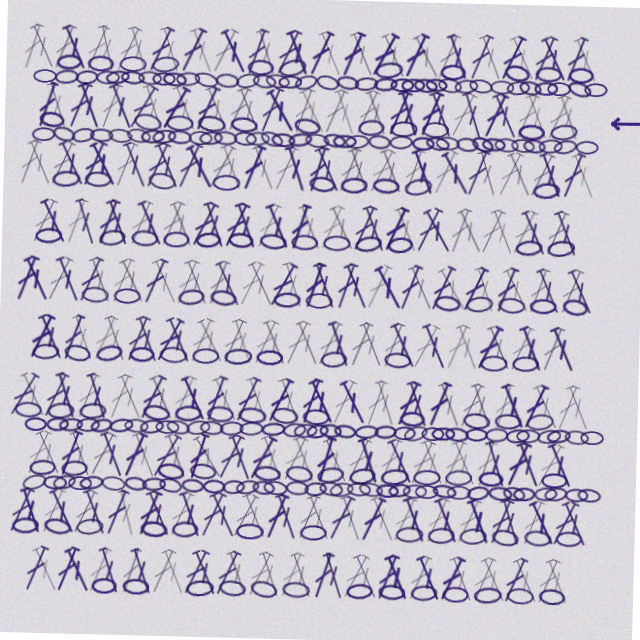chain: (271, 57, 302, 80), (128, 116, 158, 137), (400, 174, 430, 195), (96, 348, 125, 369), (256, 580, 285, 601), (497, 58, 525, 79), (288, 117, 317, 137), (144, 175, 173, 195), (96, 233, 125, 253), (352, 233, 381, 253), (64, 349, 93, 369), (144, 407, 173, 427), (160, 465, 189, 485), (320, 465, 349, 485), (352, 465, 381, 485), (48, 523, 77, 543), (496, 523, 525, 543), (544, 233, 574, 252), (561, 291, 589, 311), (368, 59, 397, 78), (192, 117, 221, 136), (528, 407, 557, 426), (254, 130, 280, 151), (465, 130, 491, 151), (560, 73, 587, 93), (405, 421, 432, 441), (25, 479, 52, 499), (145, 59, 173, 78), (33, 117, 61, 136), (545, 117, 573, 136), (305, 175, 333, 194), (177, 291, 205, 310), (209, 291, 237, 310), (433, 291, 461, 310), (465, 291, 493, 310), (273, 407, 301, 426), (193, 465, 221, 484), (289, 465, 317, 484), (81, 523, 109, 542), (225, 581, 253, 600), (48, 176, 77, 194), (240, 408, 269, 426), (384, 466, 413, 484), (192, 582, 221, 600), (480, 582, 509, 600), (187, 73, 213, 93), (287, 73, 313, 93), (225, 118, 253, 136), (529, 176, 557, 194), (257, 234, 285, 252), (513, 234, 541, 252), (497, 292, 525, 310), (321, 350, 349, 368), (49, 408, 77, 426), (465, 408, 493, 426), (257, 466, 285, 484), (145, 524, 173, 542), (529, 524, 557, 542), (513, 582, 541, 600), (545, 582, 573, 600), (229, 73, 255, 92), (160, 350, 189, 367), (193, 234, 220, 252), (385, 234, 412, 252), (225, 350, 253, 367), (81, 408, 109, 425), (401, 524, 429, 541), (289, 582, 317, 599), (417, 582, 445, 599), (309, 73, 334, 92), (47, 131, 72, 150), (56, 479, 81, 498), (420, 132, 446, 150), (548, 132, 574, 150), (168, 422, 194, 440), (539, 422, 565, 440), (239, 480, 265, 498), (333, 480, 359, 498), (353, 118, 380, 135), (337, 176, 364, 193), (369, 176, 396, 193), (33, 234, 60, 251), (129, 234, 156, 251), (81, 292, 108, 309), (33, 350, 60, 367), (385, 350, 412, 367), (177, 408, 204, 425), (209, 408, 236, 425), (33, 466, 60, 483), (65, 466, 92, 483), (449, 466, 476, 483), (17, 524, 44, 541), (177, 524, 204, 541), (433, 524, 460, 541), (465, 524, 492, 541), (353, 582, 380, 599), (385, 582, 412, 599), (512, 74, 537, 92), (66, 132, 91, 150), (92, 422, 117, 440), (308, 422, 333, 440), (162, 480, 187, 498), (470, 480, 495, 498), (506, 480, 531, 498), (161, 119, 189, 135), (385, 119, 413, 135), (209, 177, 237, 193), (321, 235, 349, 251), (481, 351, 509, 367), (417, 467, 445, 483), (241, 525, 269, 541), (50, 60, 76, 77), (431, 74, 457, 91), (462, 74, 488, 91), (121, 132, 147, 149), (226, 234, 252, 251), (111, 422, 137, 439), (188, 422, 214, 439), (362, 480, 388, 497), (81, 61, 108, 77), (113, 61, 140, 77), (241, 61, 268, 77), (529, 61, 556, 77), (417, 119, 444, 135), (513, 119, 540, 135), (81, 177, 108, 193), (161, 235, 188, 251), (289, 235, 316, 251), (113, 293, 140, 309), (273, 293, 300, 309), (305, 293, 332, 309), (529, 293, 556, 309), (193, 351, 220, 367), (257, 351, 284, 367), (513, 351, 540, 367), (17, 409, 44, 425), (305, 409, 332, 425), (497, 409, 524, 425), (545, 467, 572, 483), (305, 525, 332, 541), (561, 525, 588, 541), (129, 583, 156, 599), (449, 583, 476, 599), (99, 74, 124, 91), (259, 74, 284, 91), (147, 132, 172, 149), (283, 132, 308, 149), (142, 422, 167, 439), (285, 422, 310, 439), (549, 422, 574, 439), (83, 480, 108, 497), (105, 480, 130, 497), (323, 480, 348, 497), (436, 480, 461, 497), (434, 61, 460, 77), (562, 61, 588, 77), (130, 351, 156, 367), (402, 409, 428, 425), (482, 467, 508, 483), (98, 583, 124, 599), (330, 74, 354, 91), (318, 132, 342, 149), (128, 480, 152, 497), (392, 480, 416, 497), (548, 480, 572, 497), (48, 75, 73, 91), (156, 75, 181, 91), (209, 75, 234, 91), (246, 75, 271, 91), (348, 75, 373, 91), (367, 75, 392, 91), (407, 75, 432, 91), (448, 75, 473, 91), (500, 75, 525, 91), (103, 133, 128, 149), (194, 133, 219, 149), (266, 133, 291, 149), (300, 133, 325, 149), (340, 133, 365, 149), (506, 133, 531, 149), (61, 423, 86, 439), (296, 423, 321, 439), (357, 423, 382, 439), (447, 423, 472, 439), (508, 423, 533, 439), (567, 423, 592, 439), (267, 481, 292, 497), (492, 481, 517, 497), (581, 481, 606, 497), (69, 75, 93, 91), (451, 133, 475, 149), (518, 133, 542, 149), (336, 423, 360, 439), (185, 481, 209, 497), (226, 481, 250, 497), (256, 481, 280, 497), (308, 481, 332, 497), (114, 75, 139, 90), (202, 423, 227, 438), (222, 423, 247, 438), (132, 75, 156, 90), (170, 75, 194, 90), (136, 133, 160, 148), (163, 133, 187, 148), (209, 133, 233, 148), (241, 133, 265, 148), (363, 133, 387, 148), (431, 133, 455, 148), (477, 133, 501, 148), (490, 133, 514, 148), (534, 133, 558, 148), (79, 423, 103, 438), (127, 423, 151, 438), (242, 423, 266, 438), (264, 423, 288, 438), (146, 481, 170, 496), (351, 481, 375, 496), (538, 481, 562, 496), (419, 75, 442, 90), (229, 133, 252, 148), (385, 133, 408, 148), (49, 423, 72, 438), (322, 423, 345, 438), (377, 423, 400, 438), (488, 423, 511, 438), (290, 481, 313, 496), (27, 76, 51, 90), (90, 76, 114, 90), (146, 76, 170, 90), (272, 76, 296, 90), (384, 76, 408, 90), (395, 76, 419, 90), (484, 76, 508, 90), (528, 76, 552, 90), (541, 76, 565, 90), (578, 76, 602, 90), (27, 134, 51, 148), (85, 134, 109, 148), (184, 134, 208, 148), (328, 134, 352, 148), (158, 424, 182, 438), (434, 424, 458, 438), (519, 424, 543, 438), (583, 424, 607, 438), (47, 482, 71, 496), (72, 482, 96, 496), (407, 482, 431, 496), (419, 482, 443, 496), (451, 482, 475, 496), (569, 482, 593, 496), (407, 134, 430, 148), (571, 134, 594, 148), (27, 424, 50, 438), (396, 424, 419, 438), (424, 424, 447, 438), (468, 424, 491, 438), (207, 482, 230, 496), (380, 482, 403, 496), (517, 482, 540, 496)
double: (433, 262, 471, 310), (119, 88, 156, 136), (257, 88, 294, 136), (417, 204, 454, 252), (7, 378, 44, 426), (151, 436, 188, 484), (360, 29, 396, 78), (200, 145, 236, 194), (193, 436, 230, 483), (402, 30, 438, 78), (152, 88, 188, 136), (178, 146, 214, 194), (434, 146, 470, 194), (264, 262, 300, 310), (370, 262, 406, 310), (152, 320, 188, 368), (408, 320, 444, 368), (210, 29, 245, 78), (290, 87, 325, 136), (440, 87, 475, 136), (82, 145, 117, 194), (360, 145, 395, 194), (34, 203, 69, 252), (184, 203, 219, 252), (114, 261, 149, 310), (498, 261, 533, 310), (194, 319, 229, 368), (472, 319, 507, 368), (18, 377, 53, 426), (210, 377, 245, 426), (338, 377, 373, 426), (88, 435, 123, 484), (248, 435, 283, 484), (50, 493, 85, 542), (530, 493, 565, 542), (552, 493, 587, 542), (344, 551, 379, 600), (536, 436, 571, 484), (19, 29, 53, 78), (137, 29, 171, 78), (169, 29, 203, 78), (201, 29, 235, 78), (489, 29, 523, 78), (499, 29, 533, 78), (531, 29, 565, 78), (483, 87, 517, 136), (41, 145, 75, 194), (51, 145, 85, 194), (307, 145, 341, 194), (489, 145, 523, 194), (499, 145, 533, 194), (131, 203, 165, 252), (217, 203, 251, 252), (323, 203, 357, 252), (409, 203, 443, 252), (451, 203, 485, 252), (505, 203, 539, 252), (515, 203, 549, 252), (41, 261, 75, 310), (147, 261, 181, 310), (233, 261, 267, 310), (243, 261, 277, 310), (403, 261, 437, 310), (457, 261, 491, 310), (563, 261, 597, 310), (25, 319, 59, 368), (313, 319, 347, 368), (387, 319, 421, 368), (115, 377, 149, 426), (137, 377, 171, 426), (147, 377, 181, 426), (179, 377, 213, 426), (265, 377, 299, 426), (307, 377, 341, 426), (531, 377, 565, 426), (35, 435, 69, 484), (217, 435, 251, 484), (281, 435, 315, 484), (387, 435, 421, 484), (211, 493, 245, 542), (329, 493, 363, 542), (563, 493, 597, 542), (185, 551, 219, 600), (249, 551, 283, 600), (355, 551, 389, 600), (441, 551, 475, 600), (483, 551, 517, 600), (515, 551, 549, 600), (521, 146, 555, 194), (233, 494, 267, 542), (35, 552, 69, 600), (67, 552, 101, 600), (179, 29, 212, 78), (265, 29, 298, 78), (339, 29, 372, 78), (393, 29, 426, 78), (563, 29, 596, 78), (163, 87, 196, 136), (185, 87, 218, 136), (217, 87, 250, 136), (537, 87, 570, 136), (115, 145, 148, 194), (137, 145, 170, 194), (147, 145, 180, 194), (169, 145, 202, 194), (265, 145, 298, 194), (425, 145, 458, 194), (163, 203, 196, 252), (259, 203, 292, 252), (313, 203, 346, 252), (377, 203, 410, 252), (473, 203, 506, 252), (51, 261, 84, 310), (73, 261, 106, 310), (179, 261, 212, 310), (339, 261, 372, 310), (361, 261, 394, 310), (425, 261, 458, 310), (35, 319, 68, 368), (89, 319, 122, 368), (163, 319, 196, 368), (249, 319, 282, 368), (259, 319, 292, 368), (281, 319, 314, 368), (419, 319, 452, 368), (483, 319, 516, 368), (505, 319, 538, 368), (547, 319, 580, 368), (233, 377, 266, 426), (329, 377, 362, 426), (499, 377, 532, 426), (521, 377, 554, 426), (25, 435, 58, 484), (131, 435, 164, 484), (345, 435, 378, 484), (451, 435, 484, 484), (505, 435, 538, 484), (9, 493, 42, 542), (41, 493, 74, 542), (147, 493, 180, 542), (169, 493, 202, 542), (201, 493, 234, 542), (243, 493, 276, 542), (371, 493, 404, 542), (393, 493, 426, 542), (435, 493, 468, 542), (457, 493, 490, 542), (153, 551, 186, 600), (195, 551, 228, 600), (217, 551, 250, 600), (387, 551, 420, 600), (419, 551, 452, 600), (505, 551, 538, 600), (105, 30, 138, 78), (371, 30, 404, 78), (25, 204, 58, 252), (19, 262, 52, 310), (211, 262, 244, 310), (41, 378, 74, 426), (457, 378, 490, 426), (323, 436, 356, 484), (409, 436, 442, 484), (73, 494, 106, 542), (361, 494, 394, 542), (52, 29, 84, 78), (74, 29, 106, 78), (298, 29, 330, 78), (308, 29, 340, 78), (330, 29, 362, 78), (458, 29, 490, 78), (468, 29, 500, 78), (522, 29, 554, 78), (58, 87, 90, 136), (100, 87, 132, 136), (196, 87, 228, 136), (228, 87, 260, 136), (314, 87, 346, 136), (346, 87, 378, 136), (378, 87, 410, 136), (410, 87, 442, 136), (420, 87, 452, 136), (474, 87, 506, 136), (506, 87, 538, 136), (516, 87, 548, 136), (20, 145, 52, 194), (74, 145, 106, 194), (212, 145, 244, 194), (244, 145, 276, 194), (372, 145, 404, 194), (564, 145, 596, 194), (122, 203, 154, 252), (154, 203, 186, 252), (250, 203, 282, 252), (292, 203, 324, 252), (346, 203, 378, 252), (356, 203, 388, 252), (388, 203, 420, 252), (484, 203, 516, 252), (538, 203, 570, 252), (548, 203, 580, 252), (138, 261, 170, 310), (170, 261, 202, 310), (308, 261, 340, 310), (532, 261, 564, 310), (554, 261, 586, 310), (122, 319, 154, 368), (186, 319, 218, 368), (218, 319, 250, 368), (292, 319, 324, 368), (356, 319, 388, 368), (442, 319, 474, 368), (452, 319, 484, 368), (516, 319, 548, 368), (170, 377, 202, 426), (394, 377, 426, 426), (436, 377, 468, 426), (564, 377, 596, 426), (100, 435, 132, 484), (122, 435, 154, 484), (164, 435, 196, 484), (228, 435, 260, 484), (292, 435, 324, 484), (420, 435, 452, 484), (442, 435, 474, 484), (516, 435, 548, 484), (548, 435, 580, 484), (84, 493, 116, 542), (138, 493, 170, 542), (308, 493, 340, 542), (426, 493, 458, 542), (468, 493, 500, 542), (490, 493, 522, 542), (26, 551, 58, 600), (164, 551, 196, 600), (282, 551, 314, 600), (410, 551, 442, 600), (452, 551, 484, 600), (474, 551, 506, 600), (538, 551, 570, 600), (548, 551, 580, 600), (42, 29, 73, 78), (276, 29, 307, 78), (426, 29, 457, 78), (554, 29, 585, 78), (250, 87, 281, 136), (356, 87, 387, 136), (548, 87, 579, 136), (106, 145, 137, 194), (234, 145, 265, 194), (330, 145, 361, 194), (340, 145, 371, 194), (404, 145, 435, 194), (458, 145, 489, 194), (532, 145, 563, 194), (554, 145, 585, 194), (90, 203, 121, 252), (100, 203, 131, 252), (228, 203, 259, 252), (10, 261, 41, 310), (84, 261, 115, 310), (106, 261, 137, 310), (202, 261, 233, 310), (394, 261, 425, 310), (490, 261, 521, 310), (68, 319, 99, 368), (228, 319, 259, 368), (346, 319, 377, 368), (378, 319, 409, 368), (538, 319, 569, 368), (74, 377, 105, 426), (106, 377, 137, 426), (244, 377, 275, 426), (276, 377, 307, 426), (426, 377, 457, 426), (554, 377, 585, 426), (260, 435, 291, 484), (378, 435, 409, 484), (106, 493, 137, 542), (180, 493, 211, 542), (266, 493, 297, 542), (276, 493, 307, 542), (298, 493, 329, 542), (404, 493, 435, 542), (522, 493, 553, 542), (58, 551, 89, 600), (90, 551, 121, 600), (117, 29, 147, 78), (235, 29, 265, 78), (245, 29, 275, 78), (37, 87, 67, 136), (69, 87, 99, 136), (133, 87, 163, 136), (283, 87, 313, 136), (325, 87, 355, 136), (277, 145, 307, 194), (59, 203, 89, 252), (197, 203, 227, 252), (443, 203, 473, 252), (277, 261, 307, 310), (469, 261, 499, 310), (101, 319, 131, 368), (133, 319, 163, 368), (325, 319, 355, 368), (53, 377, 83, 426), (203, 377, 233, 426), (363, 377, 393, 426), (405, 377, 435, 426), (469, 377, 499, 426), (59, 435, 89, 484), (69, 435, 99, 484), (357, 435, 387, 484), (21, 493, 51, 542), (341, 493, 371, 542), (101, 551, 131, 600), (133, 551, 163, 600), (229, 551, 259, 600), (261, 551, 291, 600), (293, 551, 323, 600), (325, 551, 355, 600), (379, 551, 409, 600), (149, 29, 178, 78), (437, 29, 466, 78), (91, 87, 120, 136), (389, 87, 418, 136), (453, 87, 482, 136), (11, 145, 40, 194), (395, 145, 424, 194), (469, 145, 498, 194), (69, 203, 98, 252), (283, 203, 312, 252), (299, 261, 328, 310), (331, 261, 360, 310), (523, 261, 552, 310), (59, 319, 88, 368), (85, 377, 114, 426), (299, 377, 328, 426), (373, 377, 402, 426), (475, 435, 504, 484), (485, 435, 514, 484), (501, 493, 530, 542), (123, 551, 152, 600), (315, 551, 344, 600), (12, 29, 40, 78), (28, 87, 56, 136), (300, 145, 328, 194), (492, 377, 520, 426), (188, 435, 216, 484), (316, 435, 343, 484), (118, 493, 145, 542), (87, 29, 113, 78)
noise: (603, 110, 637, 123)
